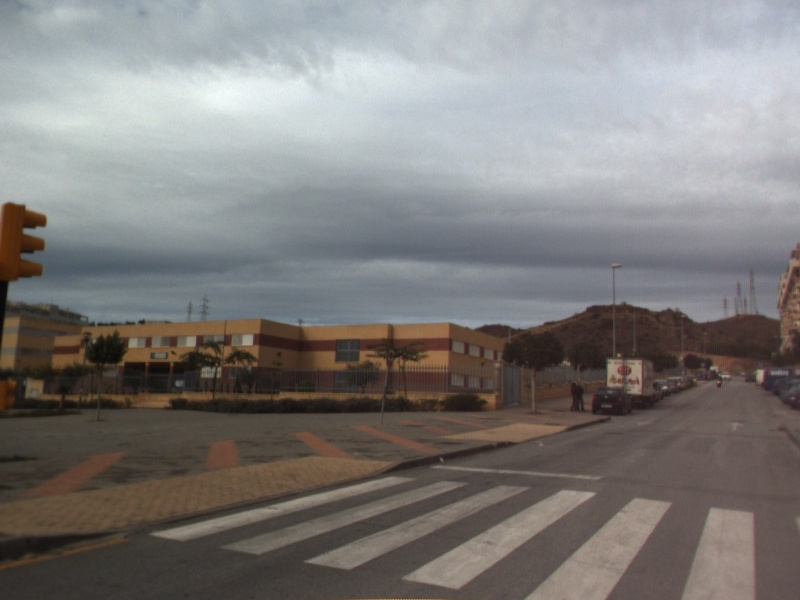STRAIGHT: (726, 419, 747, 433)
